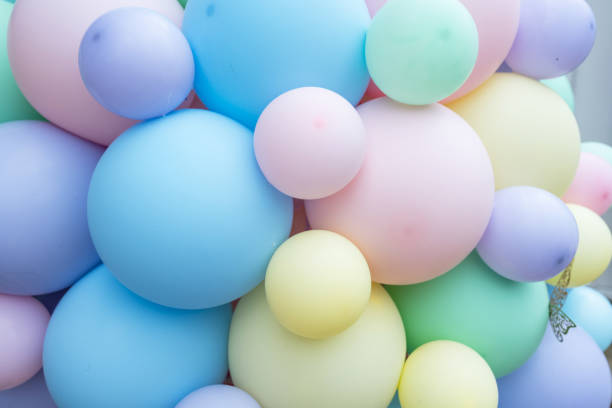Balloon: (84, 108, 294, 309), (78, 8, 195, 120), (255, 87, 367, 199), (365, 1, 479, 105), (264, 229, 371, 338), (484, 181, 579, 279), (397, 340, 499, 408), (509, 1, 596, 80)
